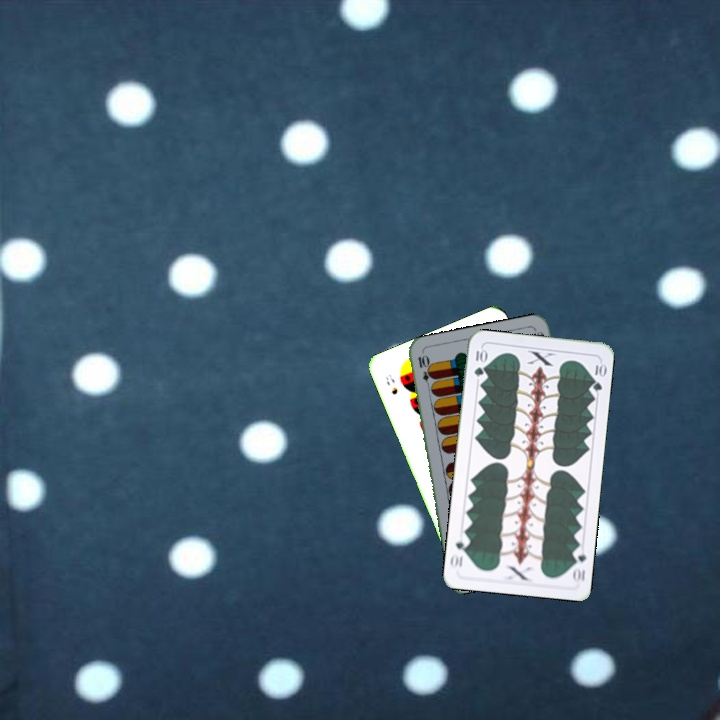E10: (414, 351, 434, 392)
G10: (568, 543, 589, 585), (470, 345, 488, 379)
S8: (382, 370, 400, 397)
